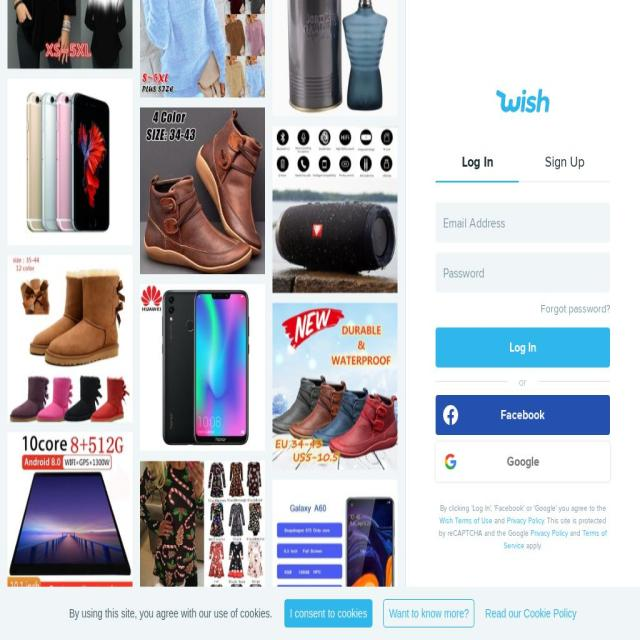button: (0, 0, 640, 640), (383, 599, 475, 628), (284, 599, 373, 628), (482, 603, 580, 624)
field: (436, 202, 610, 242), (436, 252, 610, 292)
image: (496, 88, 550, 114), (436, 442, 466, 482), (443, 405, 458, 425), (128, 621, 132, 640)
link: (504, 527, 607, 551), (440, 514, 492, 526), (507, 514, 544, 526), (531, 527, 568, 538)
text: (436, 328, 610, 368), (439, 514, 606, 538), (519, 142, 610, 182), (436, 142, 518, 182), (69, 607, 273, 620), (436, 408, 610, 422), (436, 455, 610, 468), (439, 502, 606, 513), (14, 616, 134, 629), (541, 303, 610, 314), (0, 0, 29, 20), (508, 375, 538, 387), (524, 539, 542, 551), (492, 514, 507, 526), (568, 527, 583, 538)
